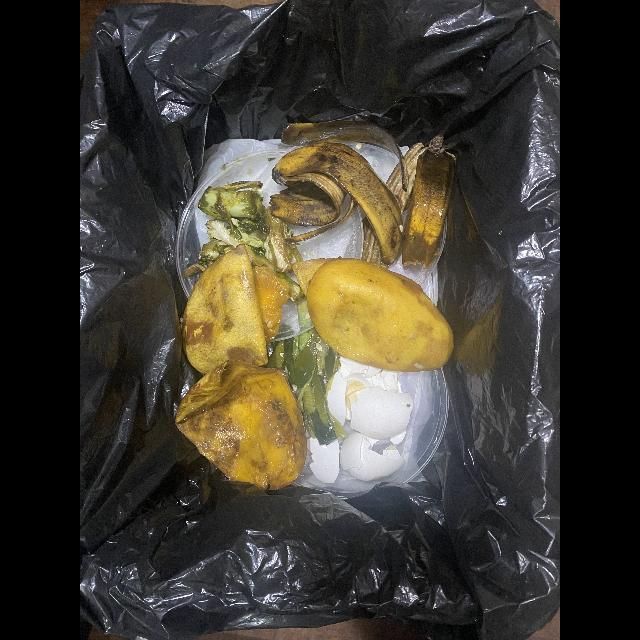biowaste: (269, 120, 408, 265), (292, 257, 454, 373), (175, 360, 307, 492), (182, 243, 268, 375), (386, 143, 456, 265), (327, 356, 414, 445), (339, 432, 403, 481), (253, 266, 289, 343), (307, 437, 340, 483)
